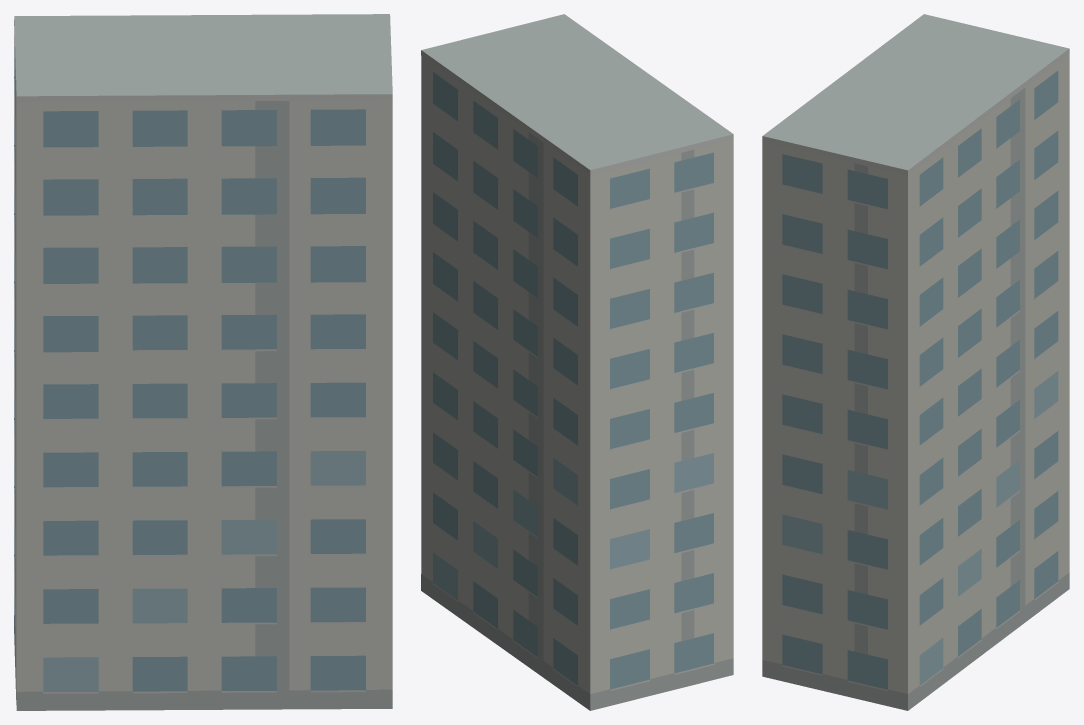
File: residential-90e72ecd-c77d-4270-a76c-5fff32df4f39.glb
3 renders of one model, left to right at view 1: azimuth 30°, elevation 25°; view 2: azimuth 150°, elevation 25°; view 3: azimuth 270°, elevation 25°, orthographic. The views are drawn at different scales.
Parts seen in each view (by area): view 1: residential-90e72ecd-c77d-4270-a76c-5fff32df4f39.tmp; view 2: residential-90e72ecd-c77d-4270-a76c-5fff32df4f39.tmp; view 3: residential-90e72ecd-c77d-4270-a76c-5fff32df4f39.tmp.
Boxes of the visible parts, x1=… form: residential-90e72ecd-c77d-4270-a76c-5fff32df4f39.tmp: x1=14, y1=14, x2=392, y2=710; residential-90e72ecd-c77d-4270-a76c-5fff32df4f39.tmp: x1=421, y1=14, x2=733, y2=710; residential-90e72ecd-c77d-4270-a76c-5fff32df4f39.tmp: x1=762, y1=14, x2=1069, y2=710.
Size of the model in its own units: 14.9 by 24 by 12.37.
